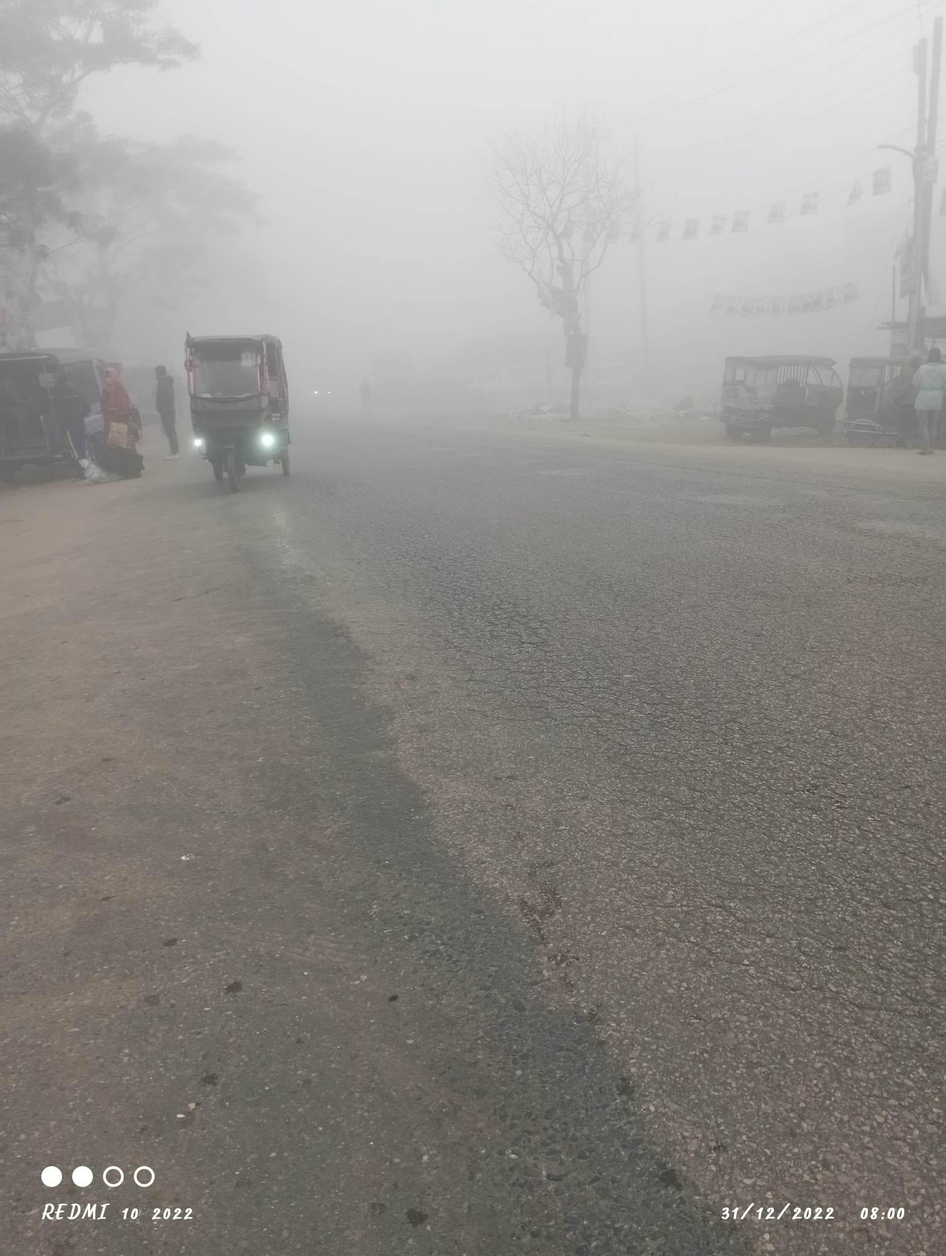Car: (163, 308, 336, 504), (714, 331, 854, 445)
